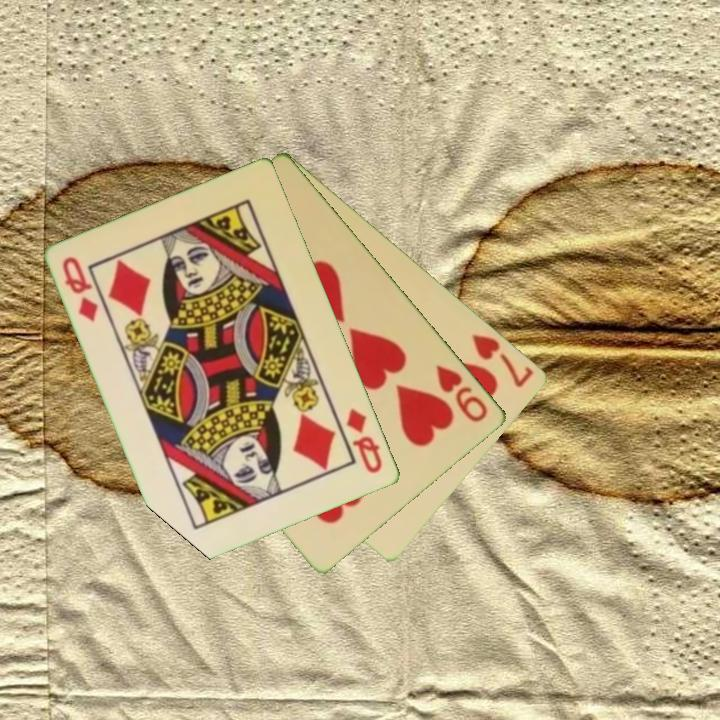7h: (468, 330, 537, 391)
9h: (433, 361, 492, 425)
Qd: (343, 404, 386, 477), (59, 253, 102, 325)
